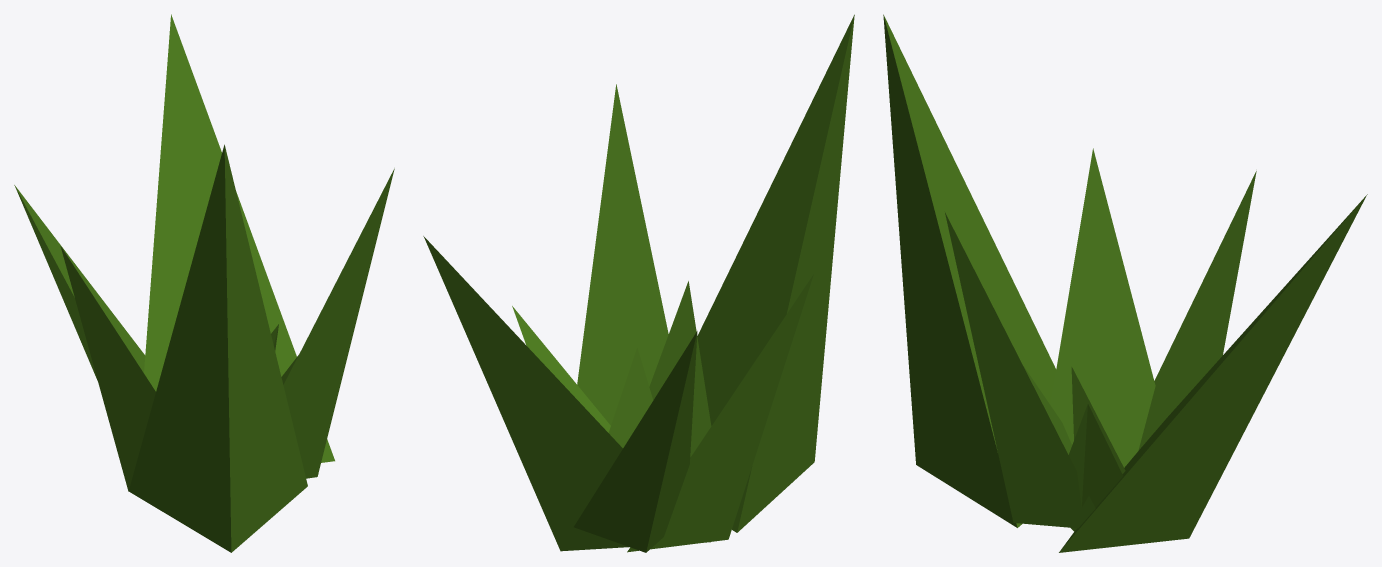
File: Grass.fbx
The picture shows the model from 3 angles, left to right: view 1: azimuth 30°, elevation 25°; view 2: azimuth 150°, elevation 25°; view 3: azimuth 270°, elevation 25°; orthographic projection. The views are drawn at different scales.
Visible parts, largest first — view 1: Cone.013; view 2: Cone.013; view 3: Cone.013.
Boxes of the visible parts, x1=… form: Cone.013: x1=14, y1=14, x2=394, y2=552; Cone.013: x1=423, y1=14, x2=854, y2=552; Cone.013: x1=883, y1=14, x2=1367, y2=552.
Size of the model in its own units: 103 by 148 by 142.
